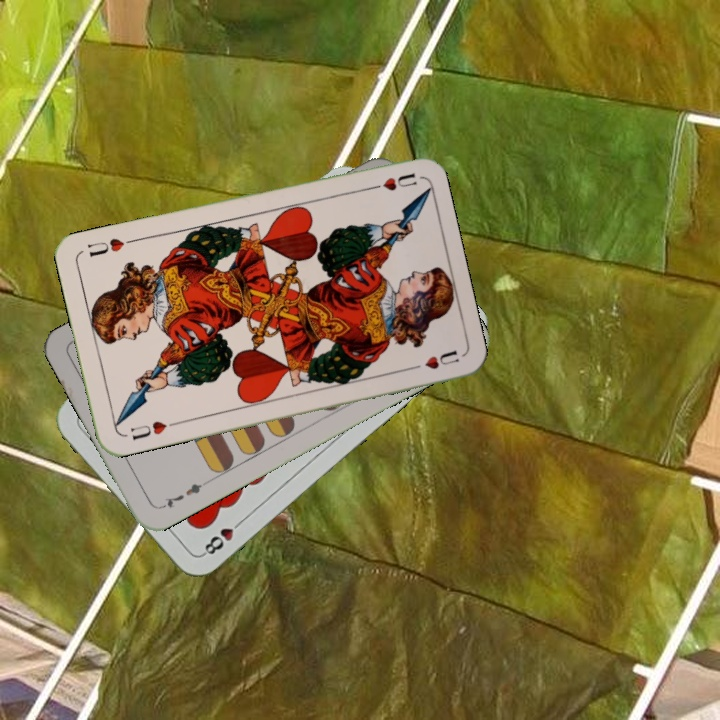E7: (156, 479, 205, 512)
H8: (198, 515, 246, 559)
HU: (362, 168, 420, 194), (126, 417, 169, 443)
